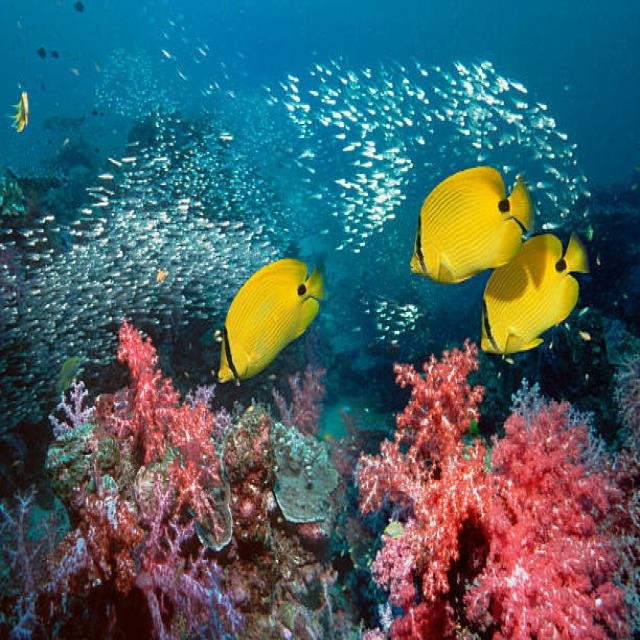ButterflyFish: (218, 256, 327, 388), (411, 167, 530, 285), (480, 234, 588, 356)
